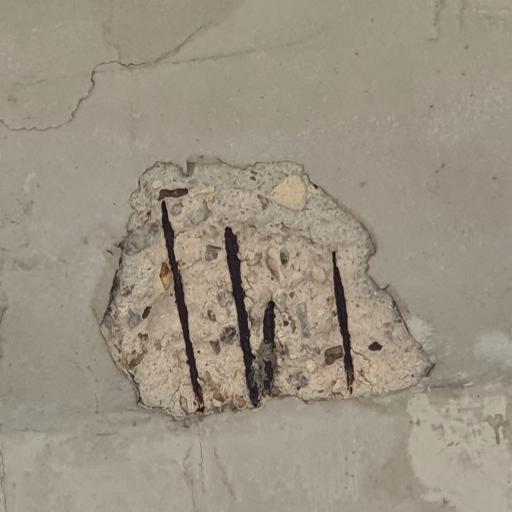exposed_rebar: (158, 188, 203, 411), (162, 199, 204, 412), (225, 226, 258, 407), (332, 251, 354, 393), (263, 300, 275, 353), (263, 359, 274, 395)
spalling: (100, 158, 433, 416)
